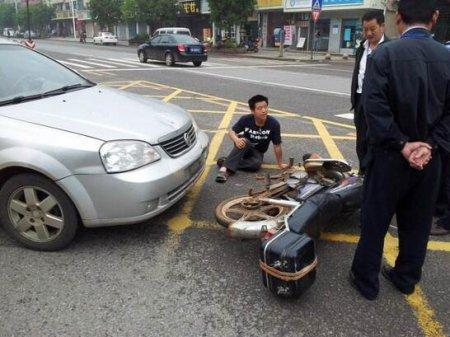Fall-Detected: (208, 92, 284, 179)
